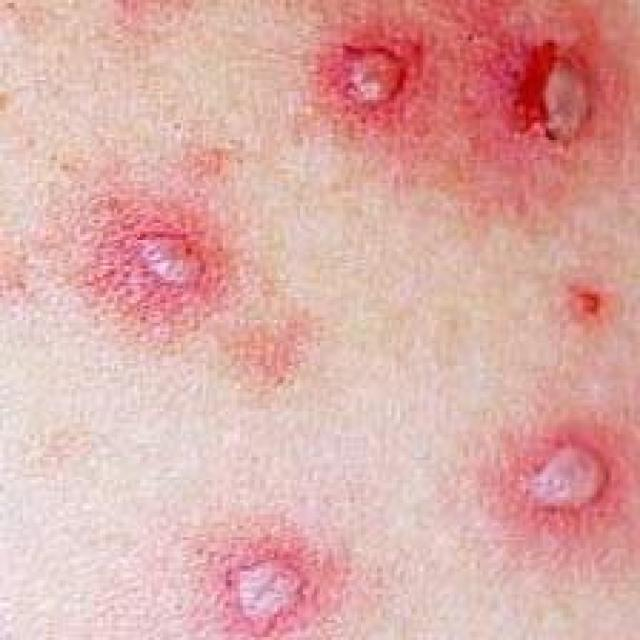others: (31, 22, 640, 640)
